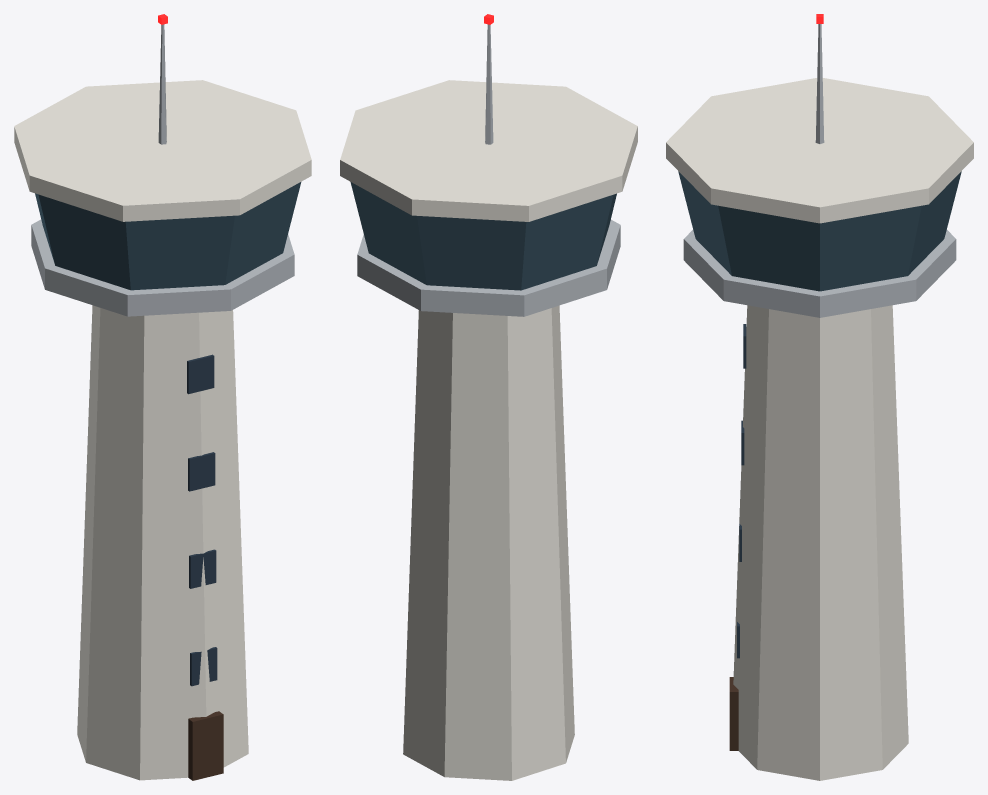
File: control_tower.glb
The picture shows the model from 3 angles, left to right: view 1: azimuth 30°, elevation 25°; view 2: azimuth 150°, elevation 25°; view 3: azimuth 270°, elevation 25°; orthographic projection.
Visible parts, largest first — view 1: control_tower; view 2: control_tower; view 3: control_tower.
Boxes of the visible parts, <box> form: control_tower: <box>14,14,311,780</box>; control_tower: <box>340,14,637,780</box>; control_tower: <box>666,14,973,780</box>.
Size of what is drawn, in the model's own units: 10.4 by 27.12 by 10.4.
